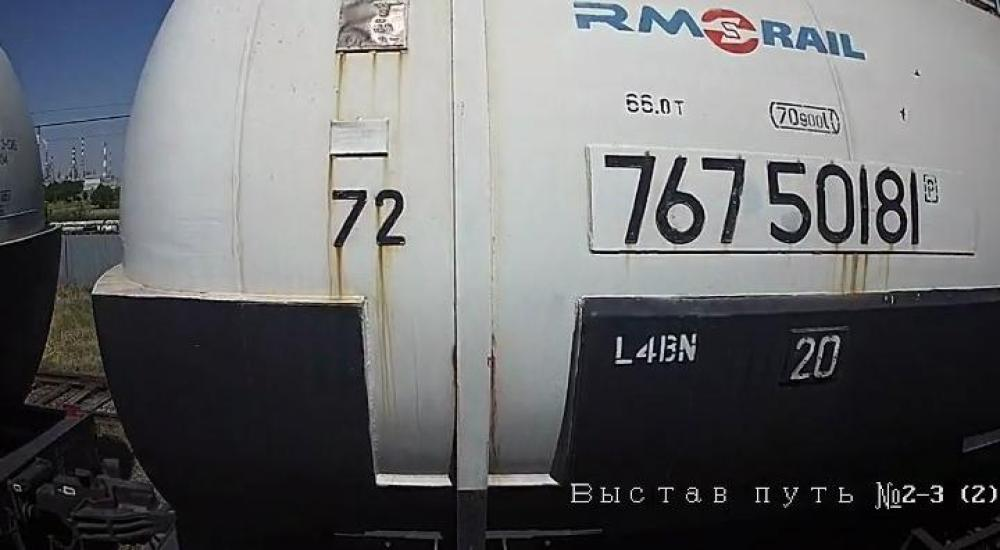Wagon-number: (599, 147, 923, 250)
